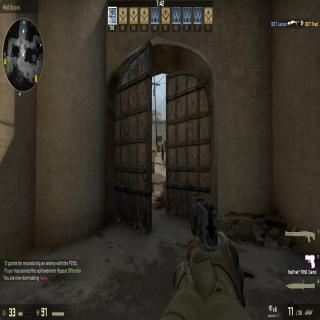CT-Body: (160, 144, 164, 162), (164, 140, 167, 152)
CT-Head: (162, 144, 164, 147), (164, 140, 166, 142)
